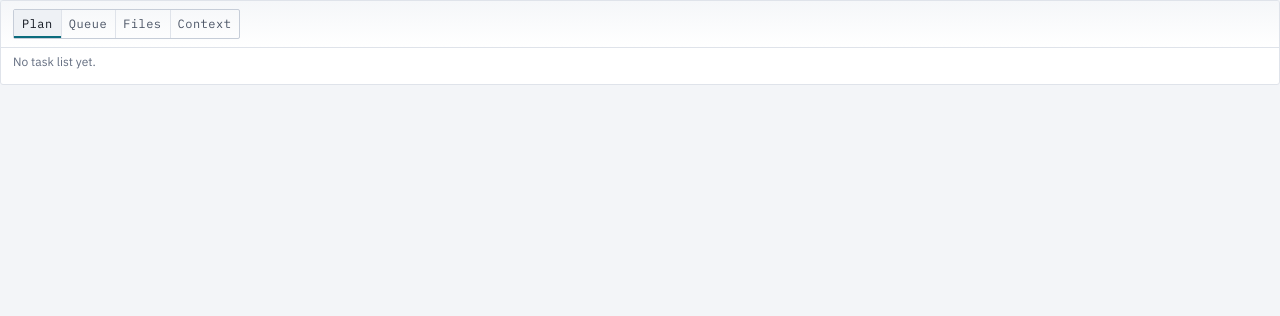
Scenario: shows Focus load failures and preserves the queue and Done empty states
Step 1. Click the button "Queue" → (88, 24), box x1=61 y1=10 x2=115 y2=38
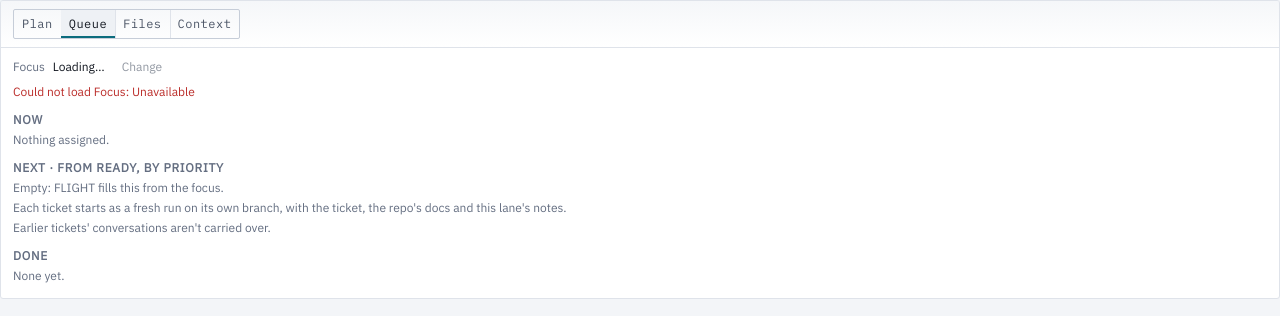
expect the text "Loading…" is shown: met, box x1=53 y1=57 x2=105 y2=77
expect the text "Nothing assigned." is shown: met, box x1=13 y1=132 x2=109 y2=147
expect the text "Empty: FLIGHT fills this from the focus." is shown: met, box x1=13 y1=180 x2=224 y2=195
